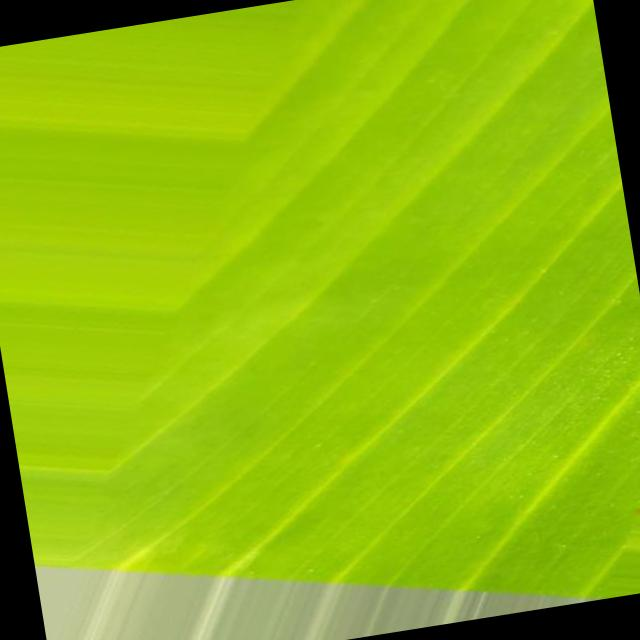Banana_Healthy: (5, 0, 640, 611)
